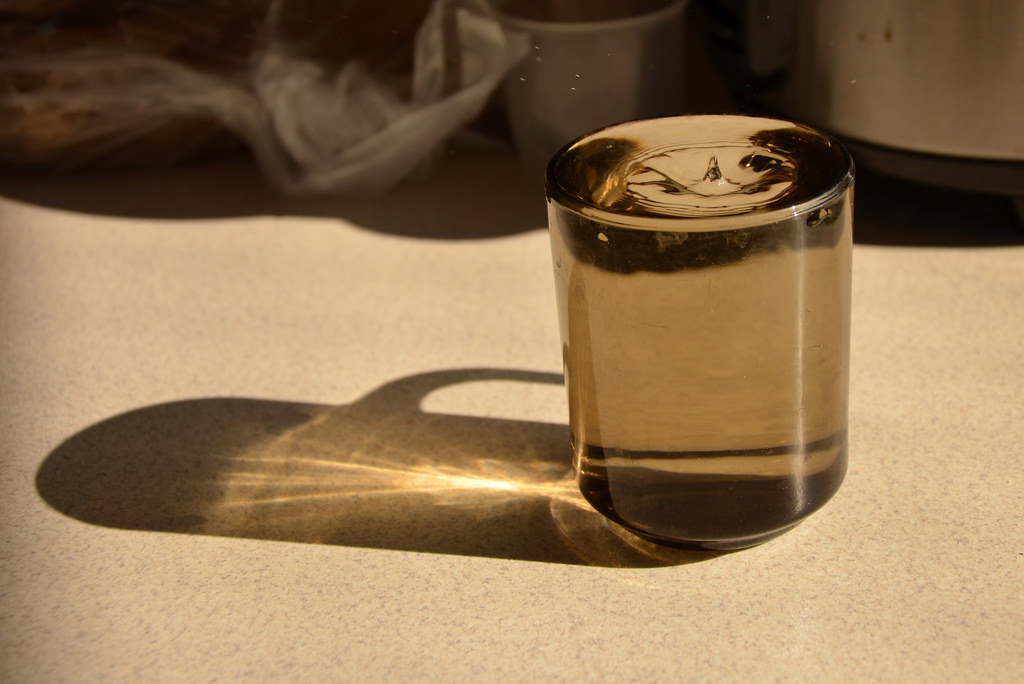glass of water: (544, 117, 858, 532)
